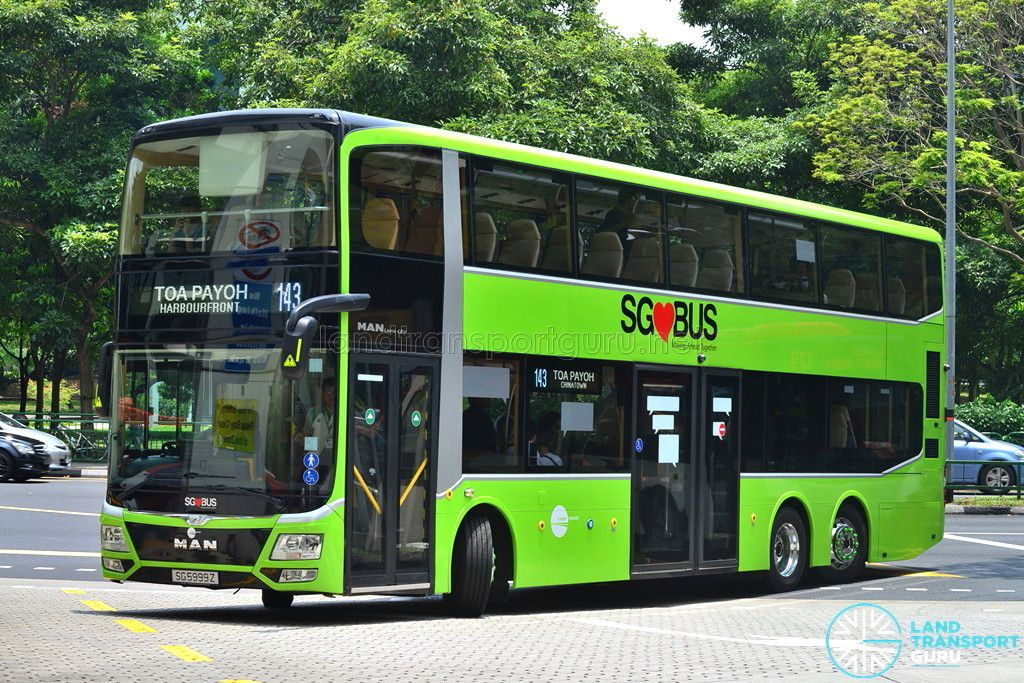bus: (95, 105, 957, 622)
